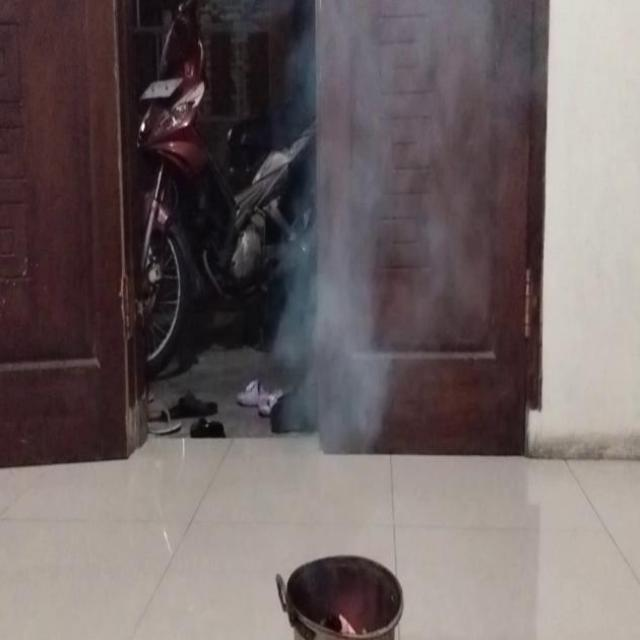fire: (284, 0, 401, 451)
